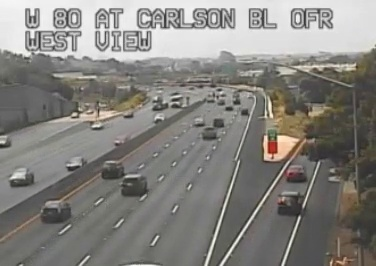car: (40, 201, 70, 222), (120, 174, 146, 194), (278, 191, 301, 213), (101, 161, 124, 178), (286, 165, 305, 181)
